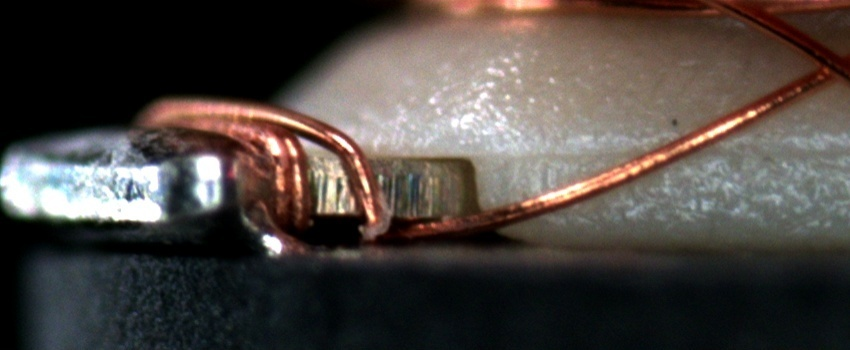CL: (794, 38, 849, 90)
DL: (460, 121, 850, 182)
TE: (134, 96, 401, 244)
